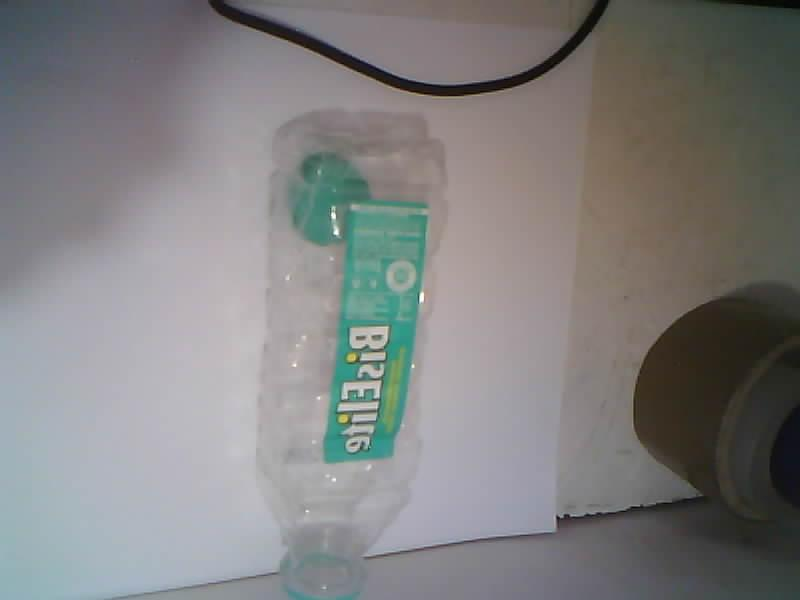non-biodegradable: (256, 114, 444, 599)
